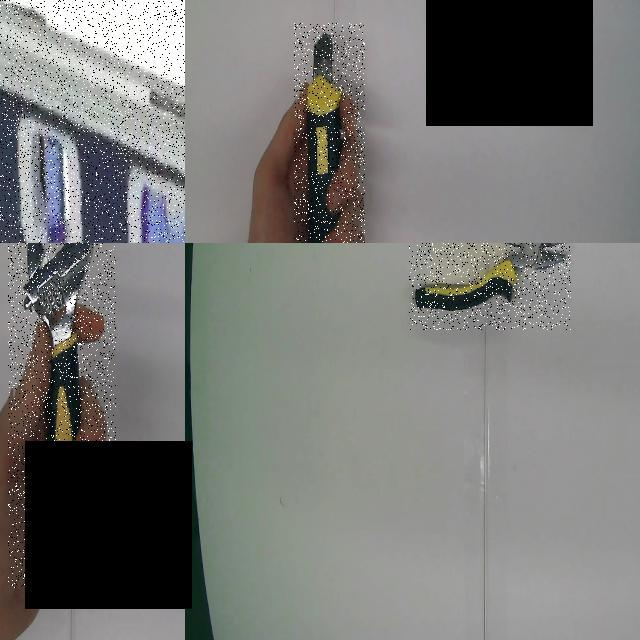estilete: (304, 32, 344, 242)
